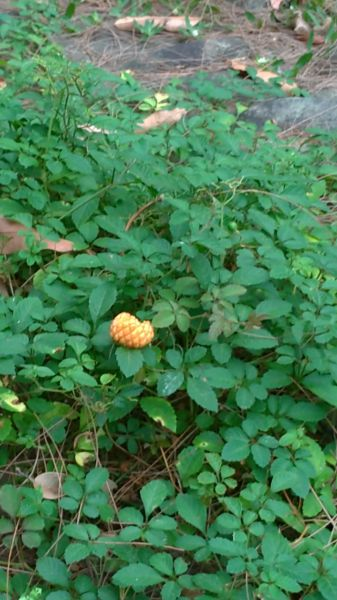eggs: (106, 307, 158, 355)
